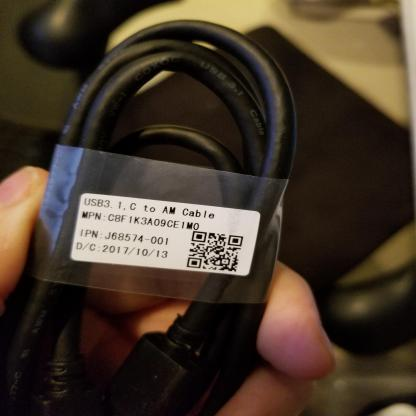qr: (187, 228, 246, 274)
